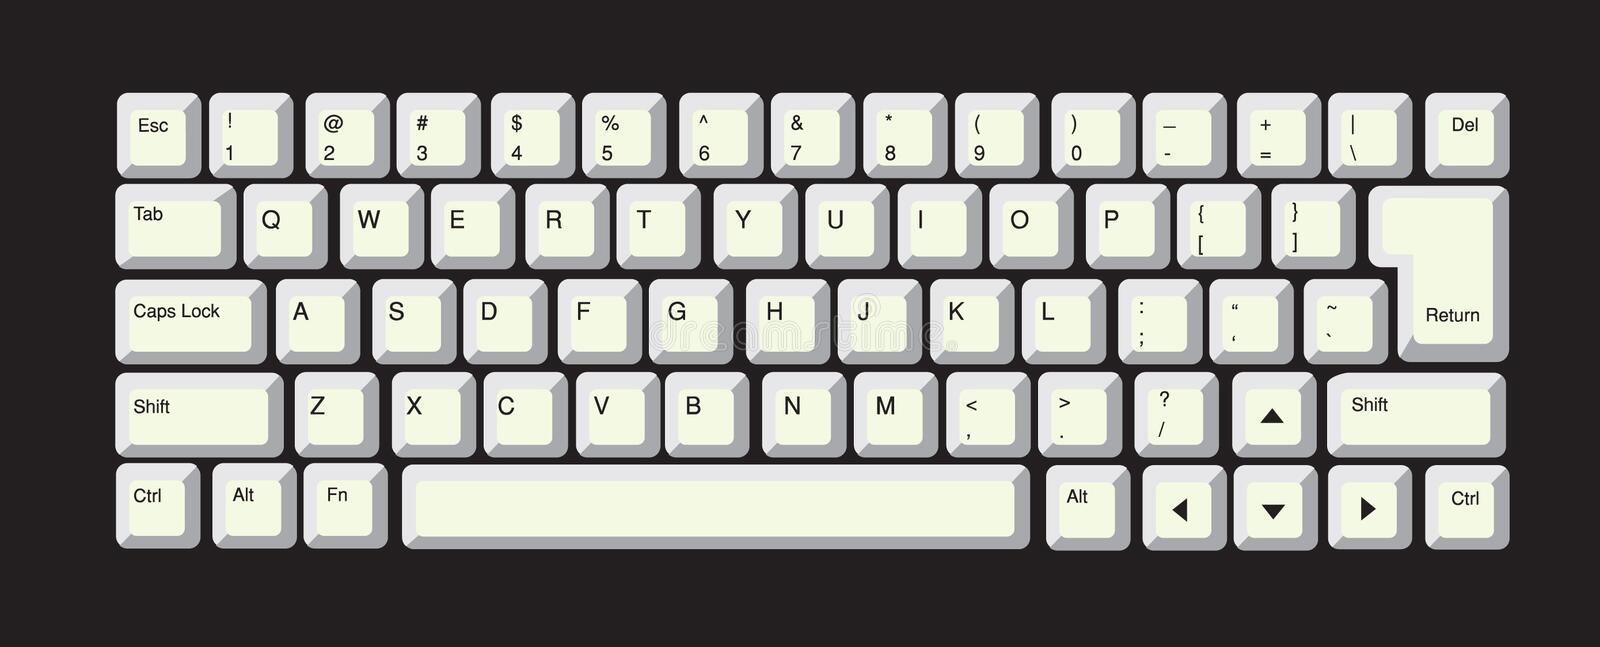keyboard: (72, 42, 1555, 615)
